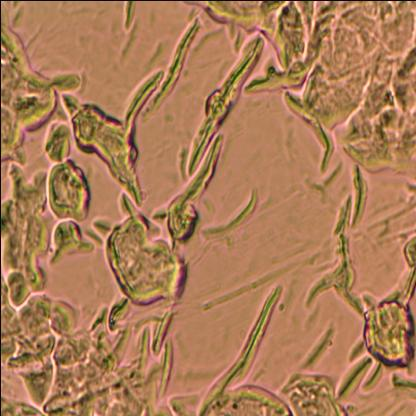Stage I: (0, 190, 187, 416), (244, 0, 416, 185), (0, 350, 347, 410)
